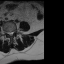CCS_stenosis: (10, 30, 11, 38)
LFS_normal: (13, 28, 15, 34)
LLS_normal: (11, 30, 13, 37)
RFS_normal: (6, 29, 8, 35)
RLS_normal: (8, 30, 10, 36)
